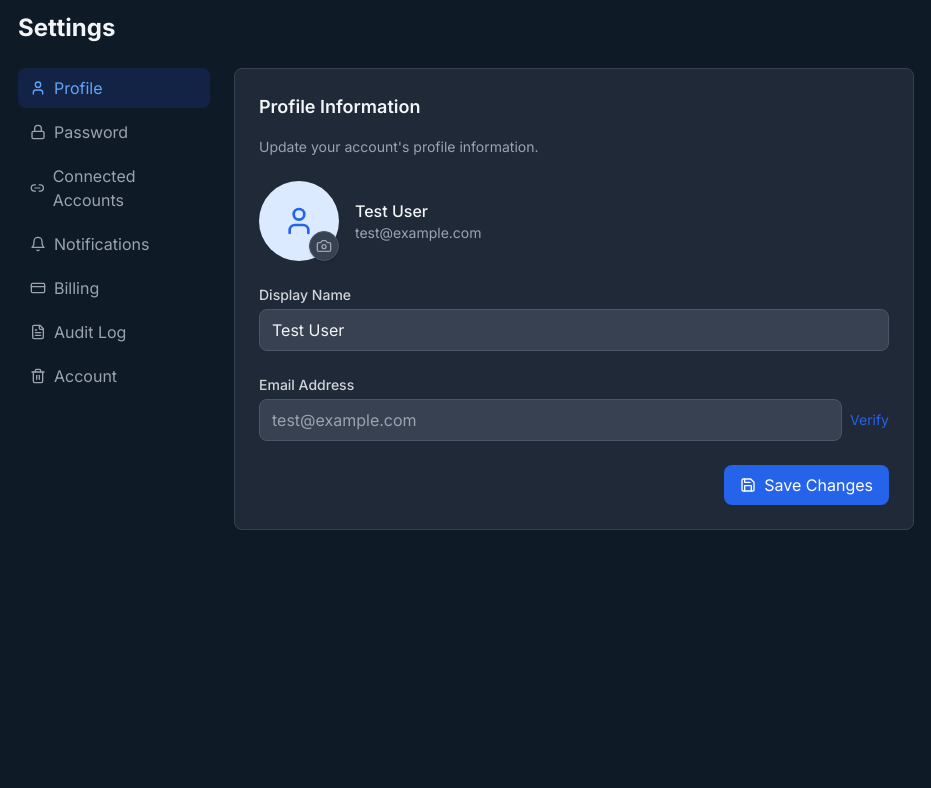
Test: SettingsPage › Notification Preferences › shows success message after saving preferences
The image size is (931, 788).
What coordinates should you click on to do the following:
click the button "Notifications"
I would click on:
 (114, 244)
Its box is [18,224,210,264].
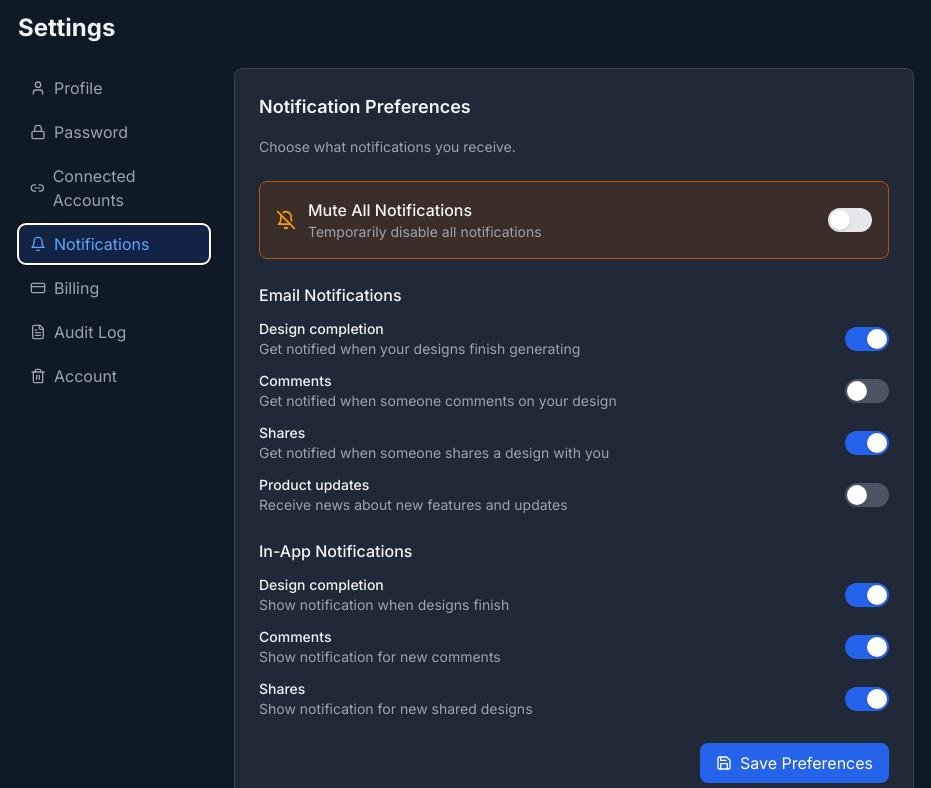
What coordinates should you click on to do the following:
click the button "Save Preferences"
I would click on:
 (794, 763)
Its box is [700,743,889,783].
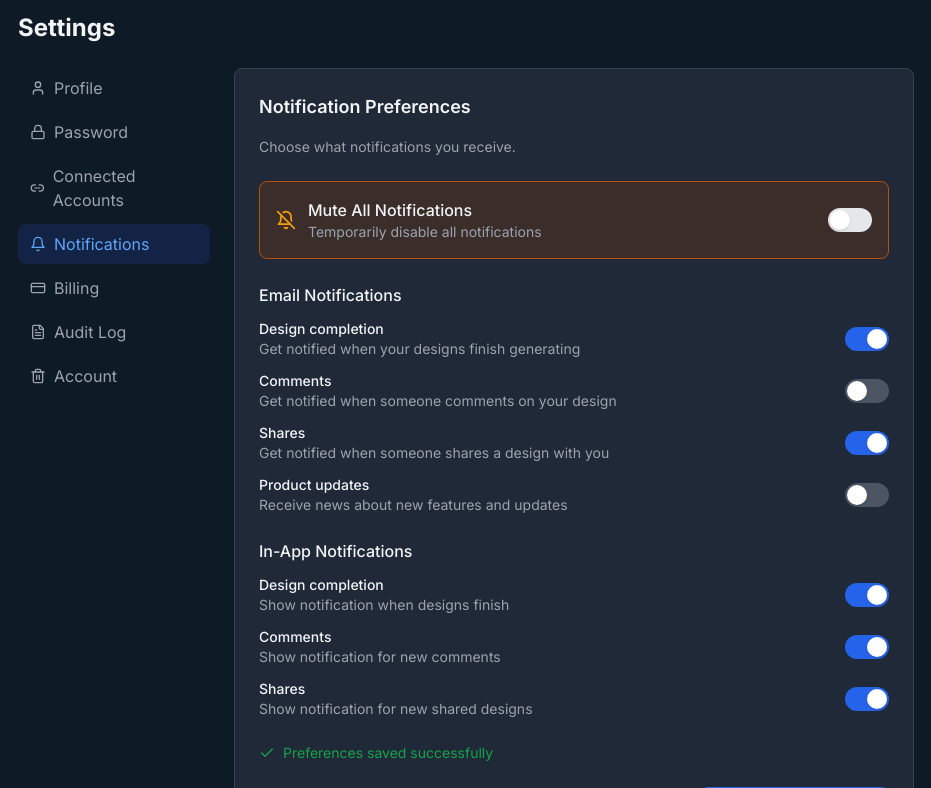
Expected: the text "Preferences saved successfully" is shown, [259,744,493,761]
